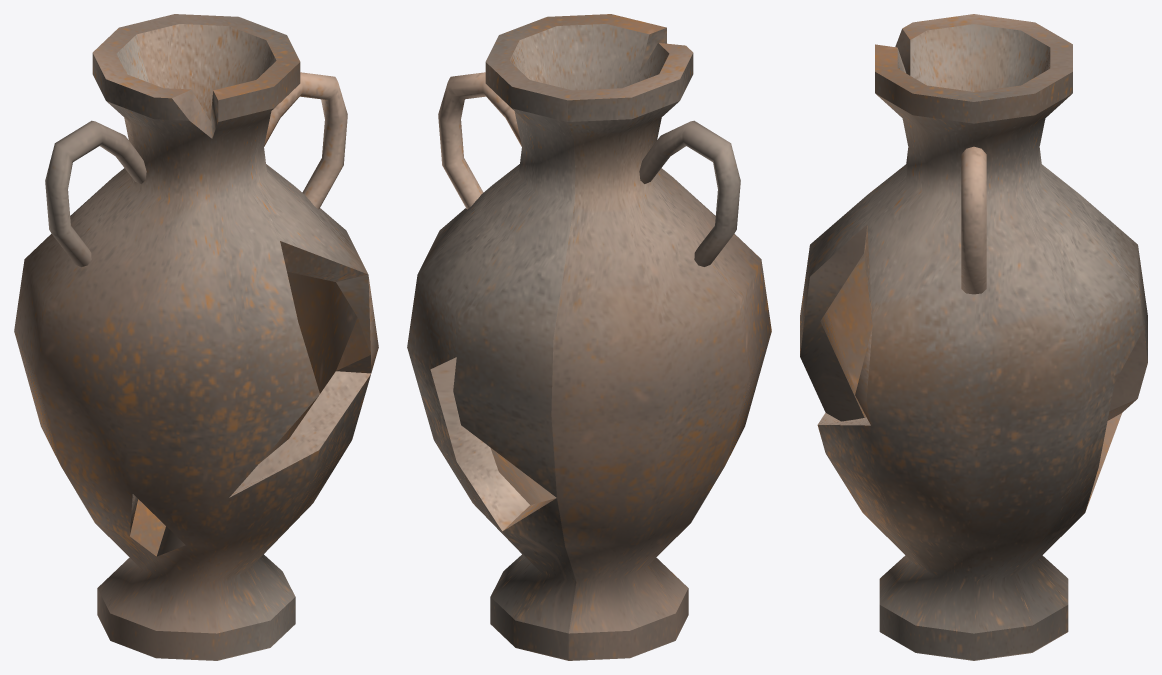
Rendered from PotTallBroken.fbx.
3 views of the same model, side by side, from view 1: azimuth 30°, elevation 25°; view 2: azimuth 150°, elevation 25°; view 3: azimuth 270°, elevation 25° (orthographic).
Parts seen in each view (by area): view 1: TallBroken; view 2: TallBroken; view 3: TallBroken.
Part boxes in pixels (bbox=[...]): TallBroken: bbox=[14, 14, 378, 660]; TallBroken: bbox=[407, 14, 771, 660]; TallBroken: bbox=[800, 14, 1147, 660].
Bounding box in the file's own units: 1.38 × 2.33 × 1.31.
